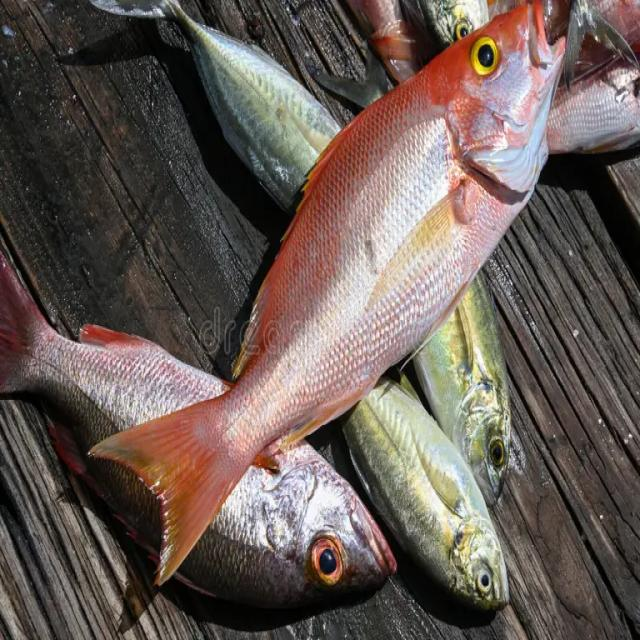Red Snapper: (87, 0, 566, 588)
